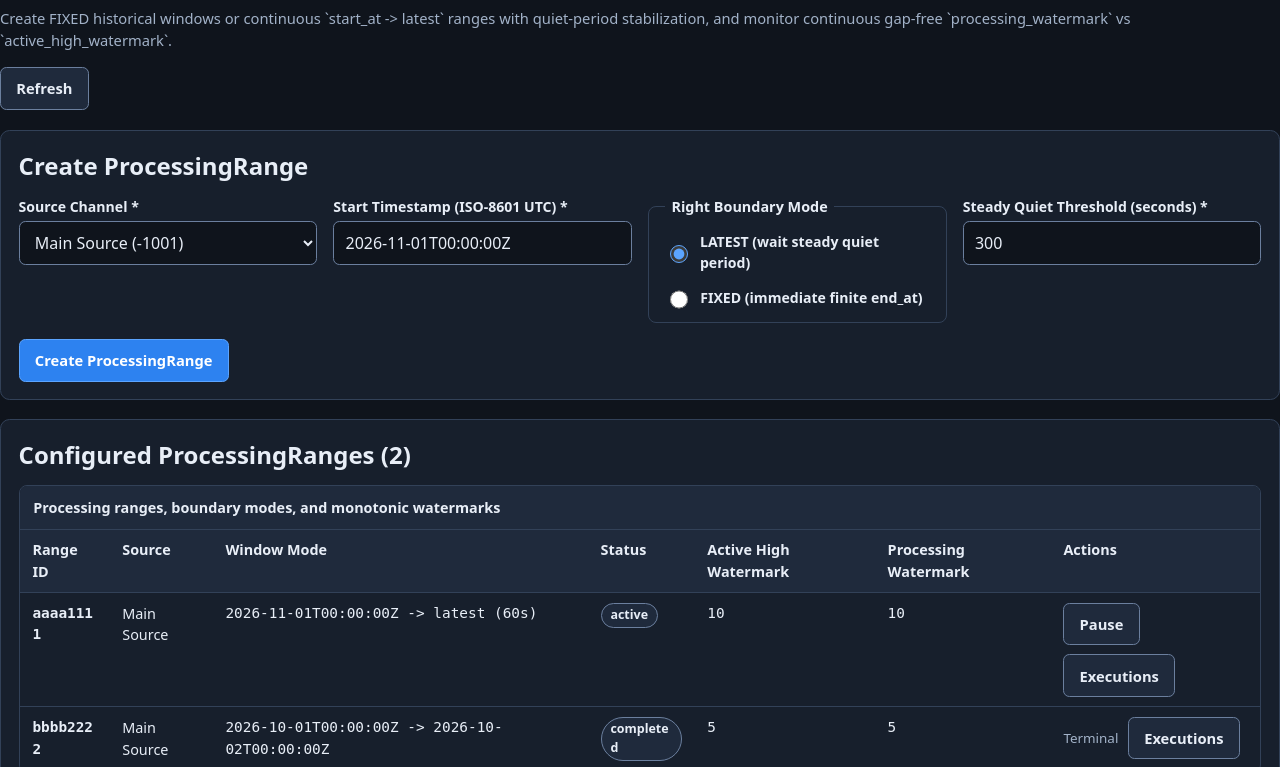
Phase 2 Web & API Hardening Coverage › ProcessingRangesWorkspace hides Pause/Resume on terminal ranges, validates steady_after_seconds, and guards execution races
Check: the column heading "aaaa1111" is shown, box [20,593,109,708]
Check: the button "Pause" is shown, box [1063,602,1140,645]
Replace the text in the field labelled "Steady Quiet Threshold (seconds) *" with "0": x=1112, y=243 [963,221,1261,265]
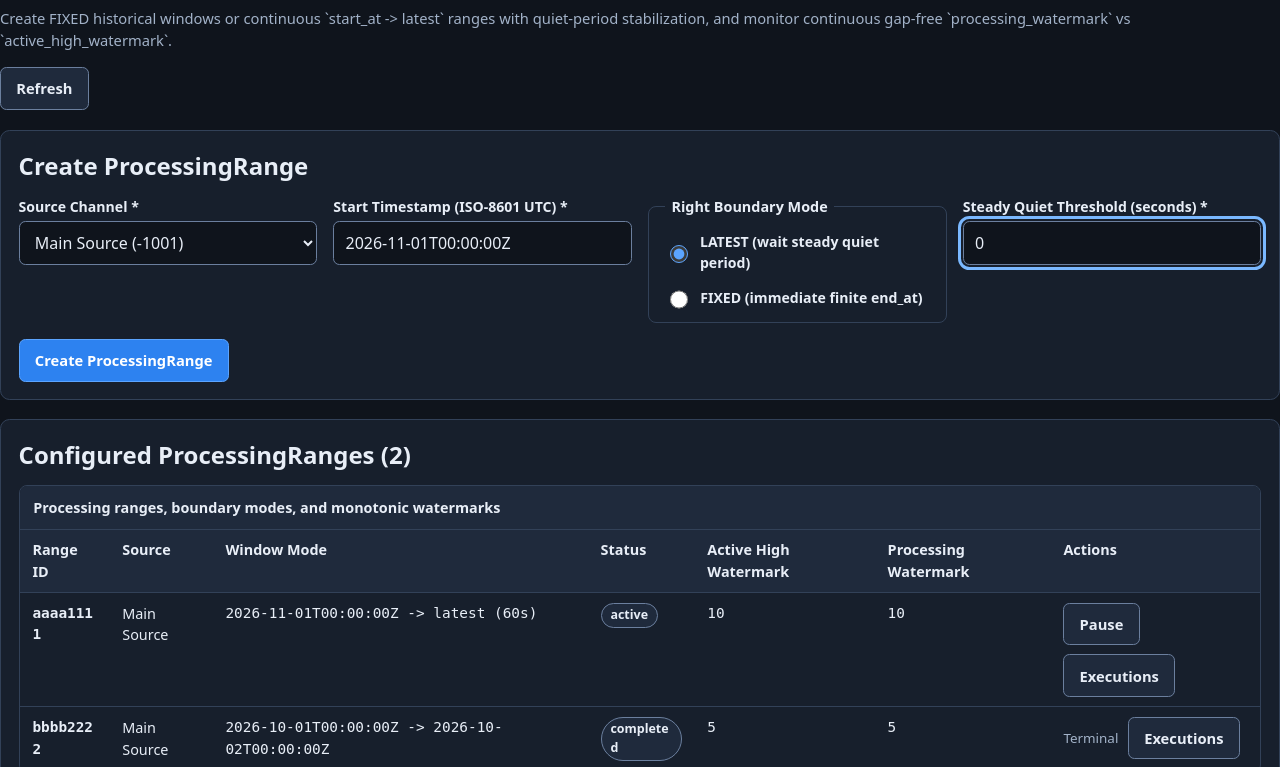
Click the button "Create ProcessingRange": x=124, y=360 [19,339,229,382]
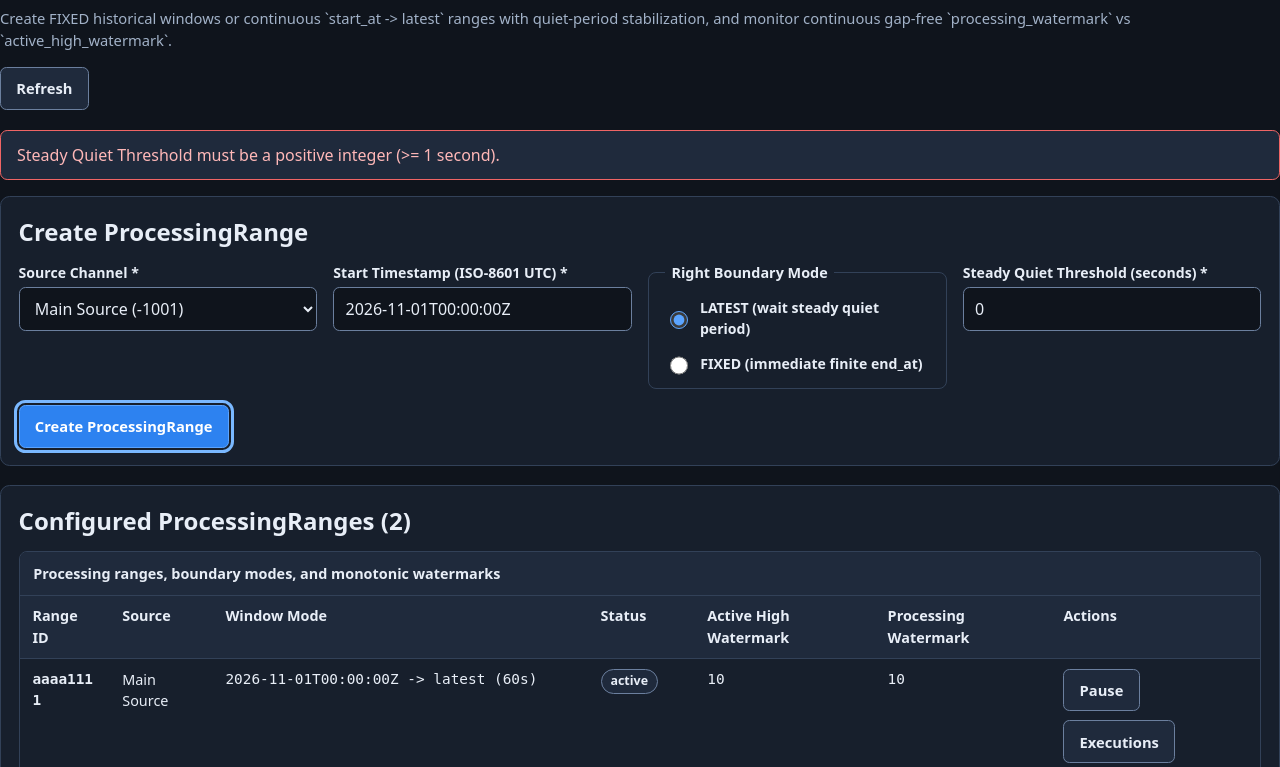
Check: the message shows "positive integer", box [17,144,500,166]
# Fast click Executions on A then B discards A's late response
Click the button "Executions": x=1119, y=742 [1063,720,1175,763]
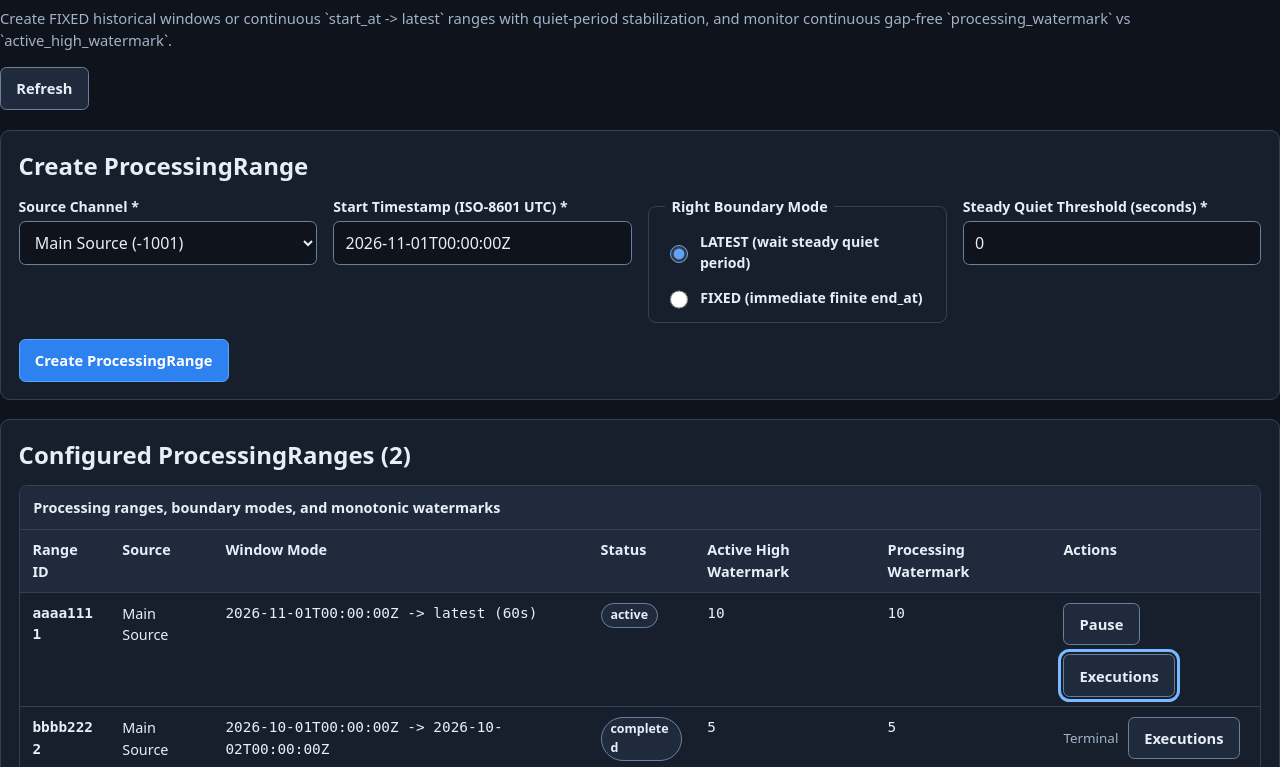
Click the button "Executions" next to "Terminal": x=1184, y=738 [1128,717,1240,760]
(page scrolled)
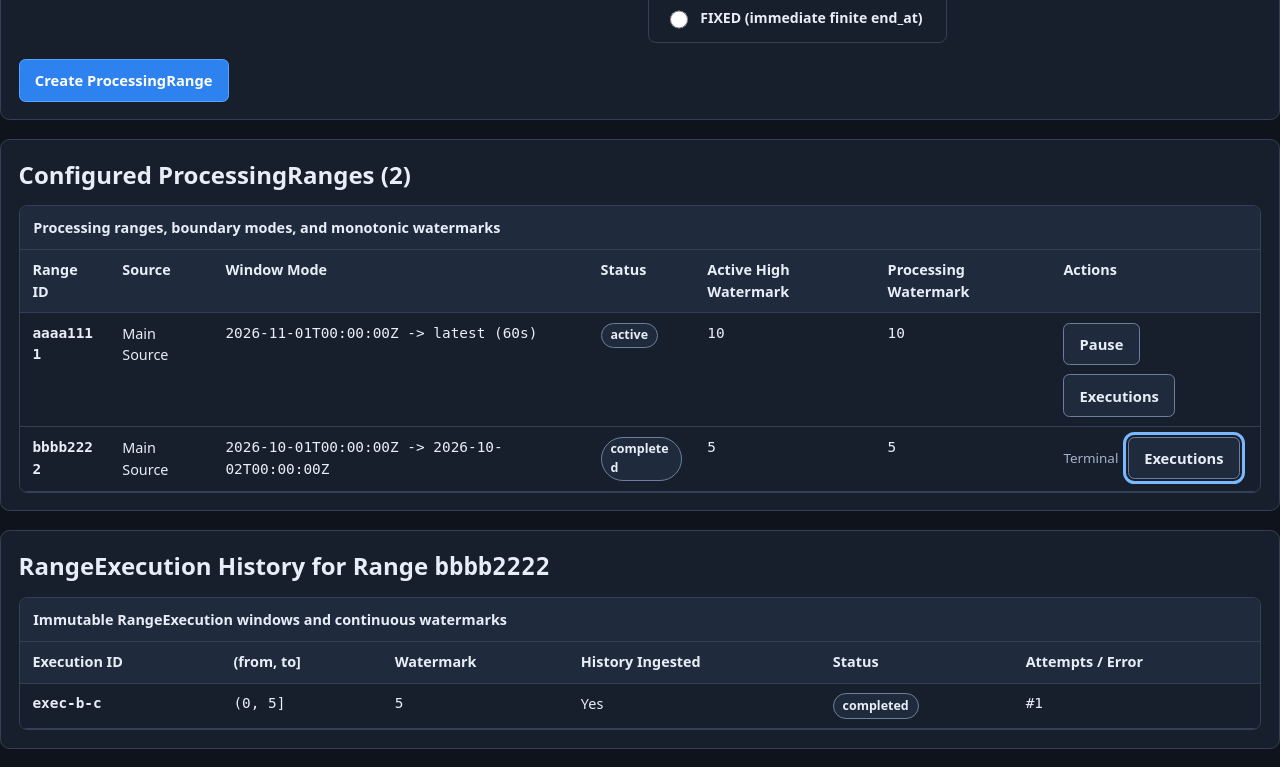
Check: the column heading "exec-b-c" is shown, box [20,684,221,729]
Check: the text "Yes" is shown, box [568,684,820,729]
